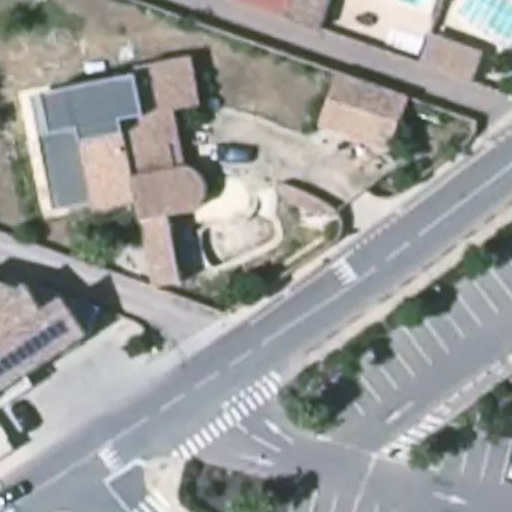pool: (196, 213, 286, 263)
